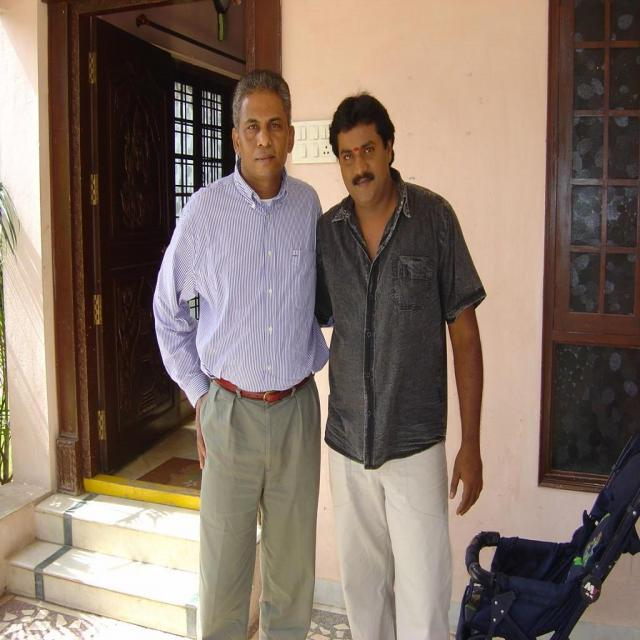nomask: (232, 95, 288, 175), (339, 123, 380, 205)
